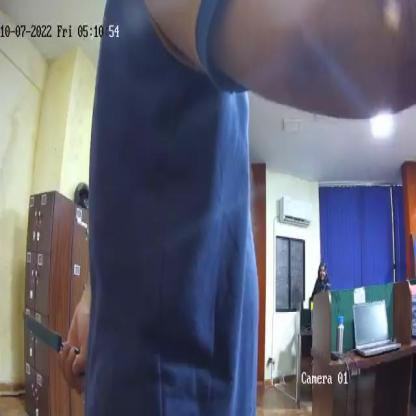Knife: (21, 306, 86, 391)
